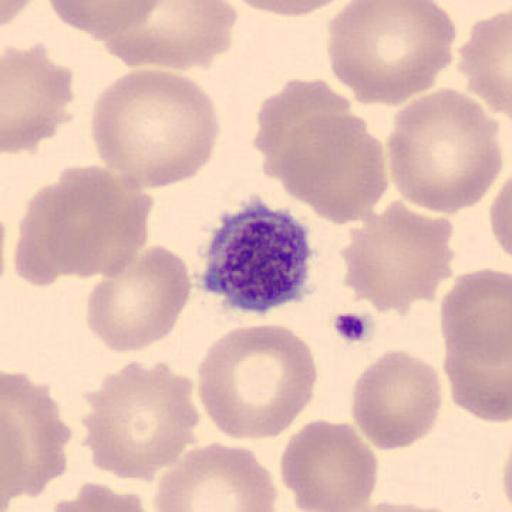Platelet: (196, 199, 316, 317)
RBC: (91, 66, 222, 189), (15, 165, 151, 281), (386, 86, 504, 216), (80, 359, 202, 483), (196, 322, 319, 442), (326, 0, 456, 107), (340, 198, 456, 317), (272, 112, 388, 226), (84, 244, 192, 354), (438, 266, 512, 424), (254, 76, 352, 179), (100, 0, 238, 71), (350, 347, 444, 451), (278, 417, 380, 512), (151, 440, 280, 512), (2, 370, 72, 502), (2, 42, 75, 157), (45, 1, 198, 50), (463, 10, 512, 148), (458, 8, 512, 116), (14, 183, 70, 287), (46, 0, 163, 41), (13, 197, 60, 288), (46, 478, 150, 512), (489, 128, 512, 261), (226, 0, 357, 18), (488, 176, 512, 258), (336, 498, 465, 512), (1, 0, 36, 30), (500, 448, 512, 512)
